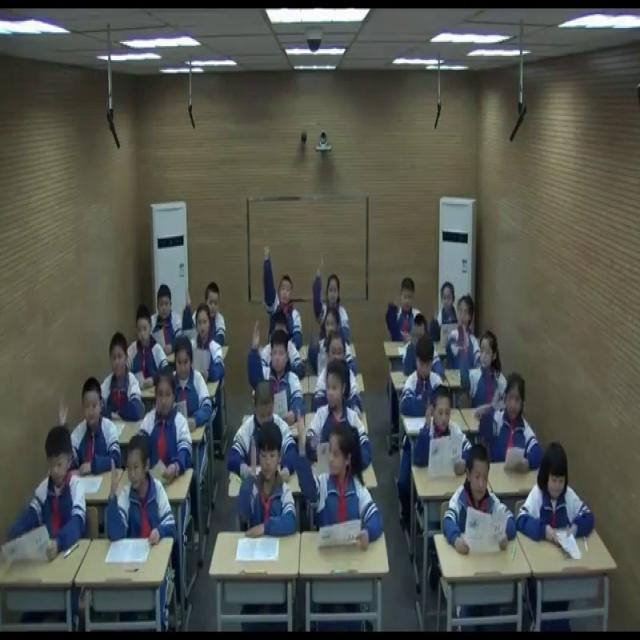distracted: (309, 361, 371, 472)
focused: (9, 427, 87, 566), (446, 443, 520, 562), (521, 447, 598, 553), (232, 378, 301, 479), (138, 369, 193, 484), (484, 371, 540, 468), (170, 334, 216, 435), (98, 335, 147, 425), (123, 302, 174, 386), (314, 334, 362, 414), (397, 342, 450, 414), (186, 301, 228, 387), (444, 293, 486, 368), (148, 282, 184, 350), (399, 315, 437, 374), (433, 284, 459, 334)
raising_hand: (294, 409, 382, 548), (235, 423, 299, 540), (107, 438, 175, 545), (57, 375, 121, 480), (413, 387, 477, 482), (248, 320, 303, 428), (260, 229, 303, 351), (458, 319, 506, 408), (312, 254, 351, 348), (384, 275, 427, 345), (182, 282, 228, 347)
